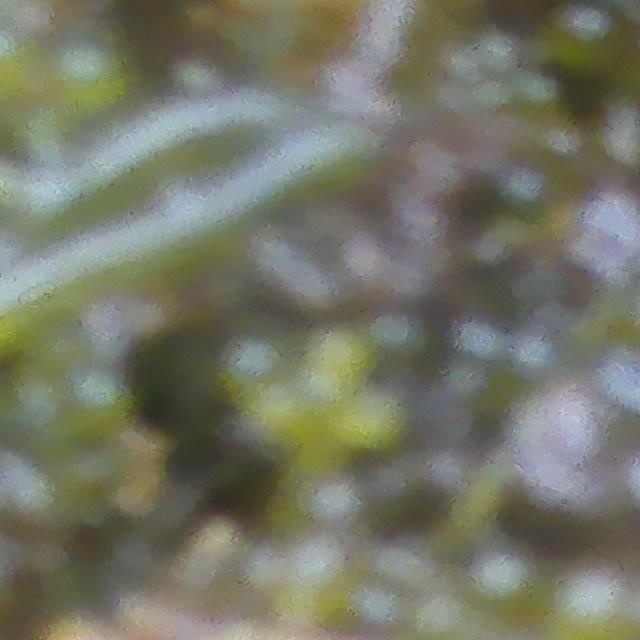SeaGrape: (46, 33, 136, 122), (67, 366, 133, 436), (292, 537, 348, 594)
